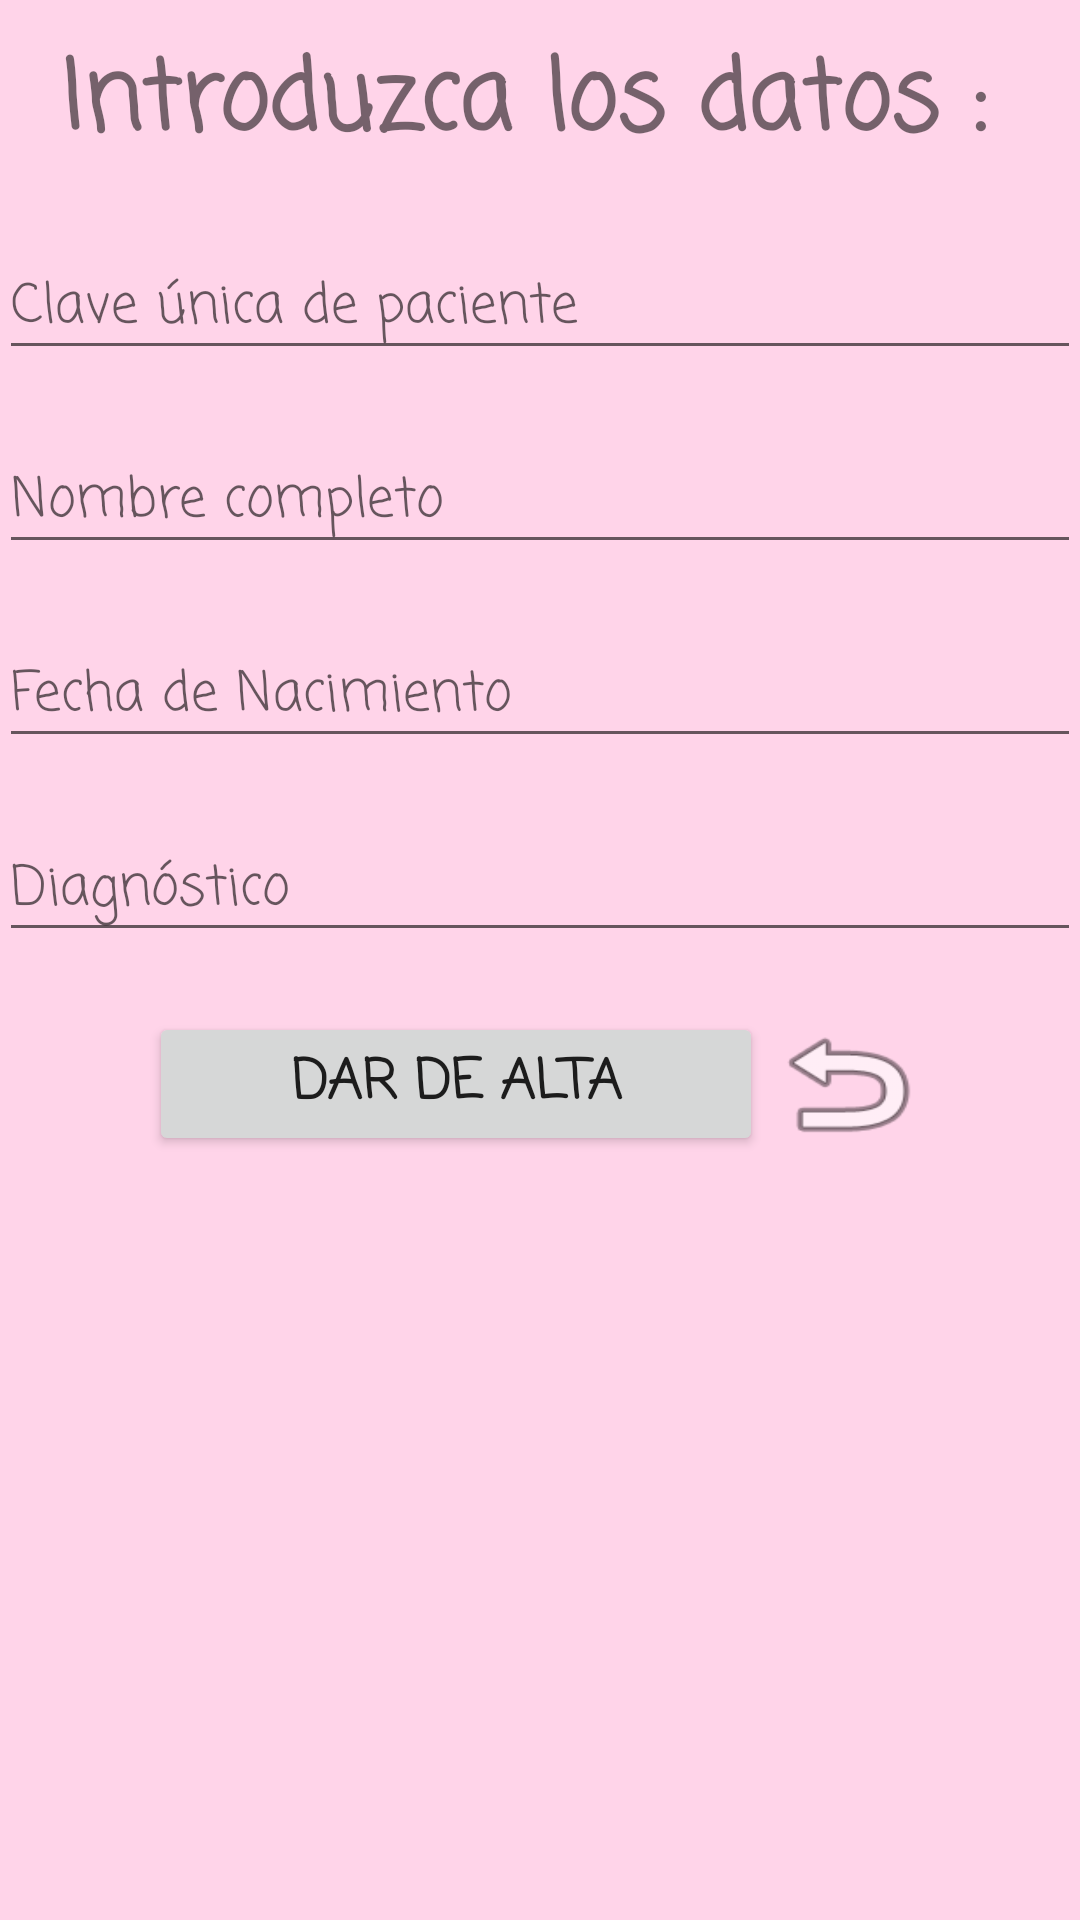

Icons on this 1080px x 1920px Android screen, each with the point to tap as point (x, y):
revert: point (849, 1085)
